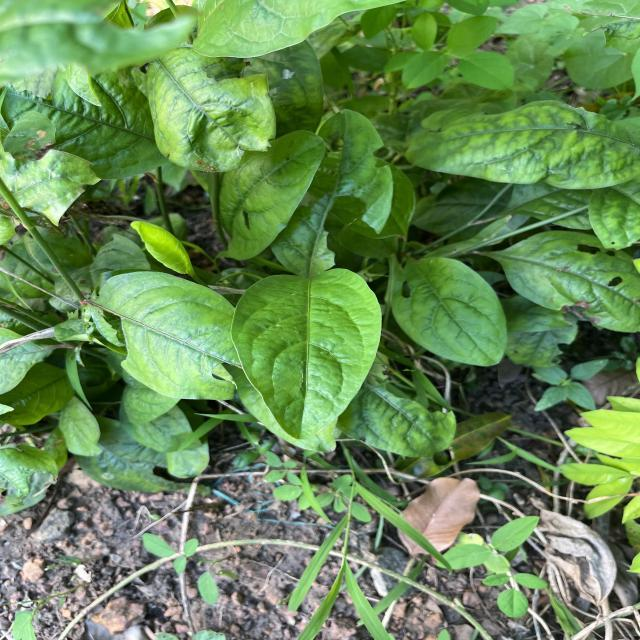Plumbago indica: (229, 262, 387, 445), (397, 94, 640, 192), (377, 253, 516, 370)
